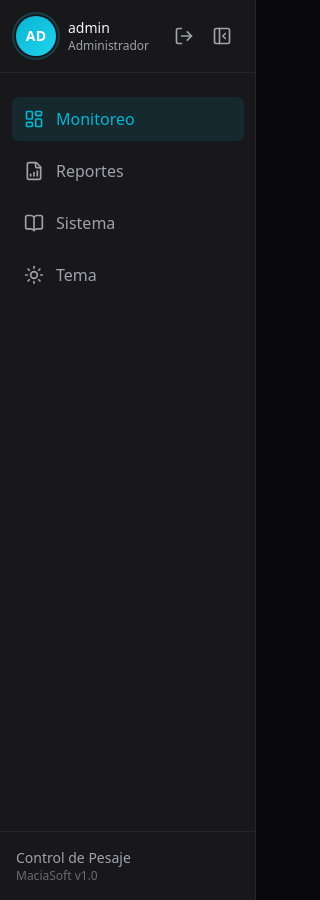
Test: DashboardLayout — sidebar ocultable › oculta y vuelve a mostrar el sidebar de escritorio
Click the button named "ocultar menú" at (222, 36), box [204,18,240,54]
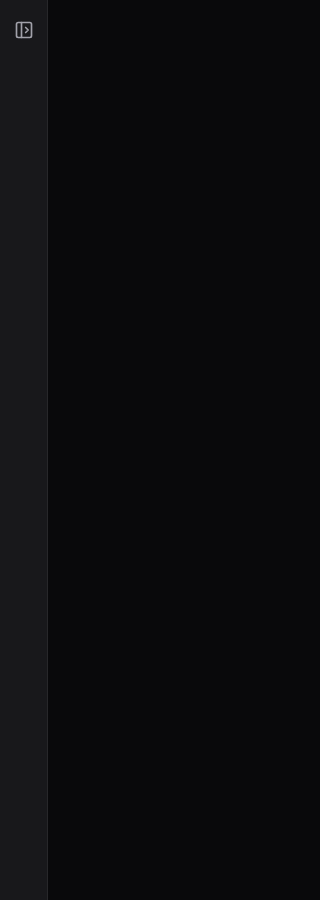
Expected: the button named "mostrar menú" is shown
Click the button named "mostrar menú" at (24, 30), box [6,12,42,48]
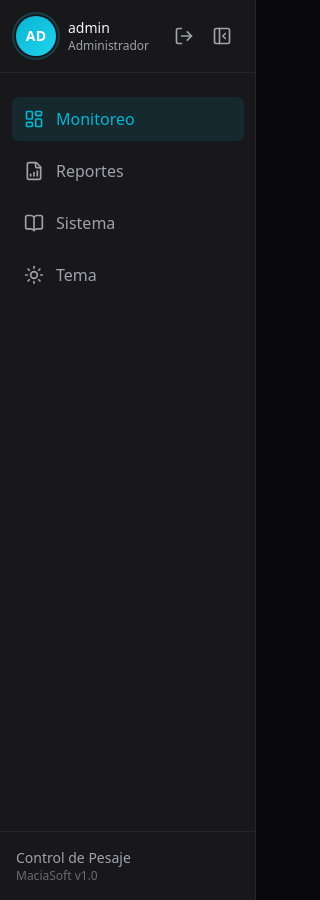
Expected: the button named "ocultar menú" is shown, [204,18,240,54]
